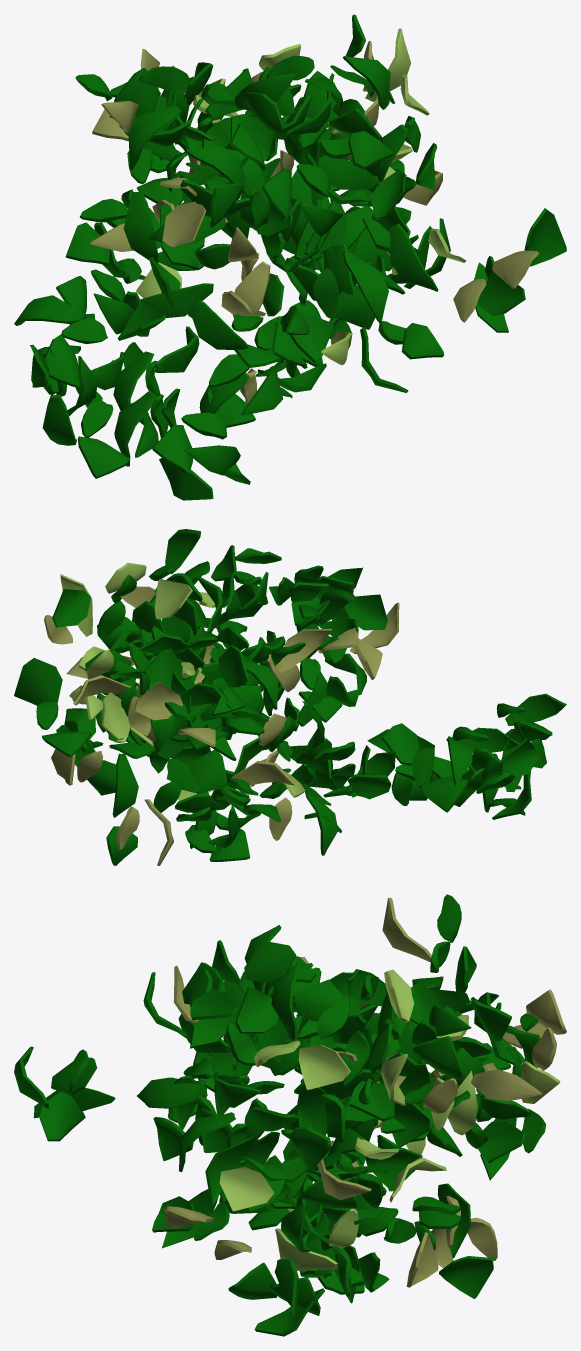
File: tree_leaves_2.fbx
The picture shows the model from 3 angles, top to bottom: view 1: azimuth 30°, elevation 25°; view 2: azimuth 150°, elevation 25°; view 3: azimuth 270°, elevation 25°; orthographic projection. The views are drawn at different scales.
Parts seen in each view (by area): view 1: TREE1, polySurface132; view 2: TREE1, polySurface132; view 3: TREE1, polySurface132.
Part boxes in pixels (box(x1,y1,x2,y2)): TREE1: box(56, 44, 466, 427); polySurface132: box(14, 14, 566, 500); TREE1: box(36, 529, 419, 865); polySurface132: box(14, 548, 566, 847); TREE1: box(152, 894, 566, 1303); polySurface132: box(14, 940, 542, 1336).
Bounding box in the file's own units: 7.15 × 4.22 × 5.98.
